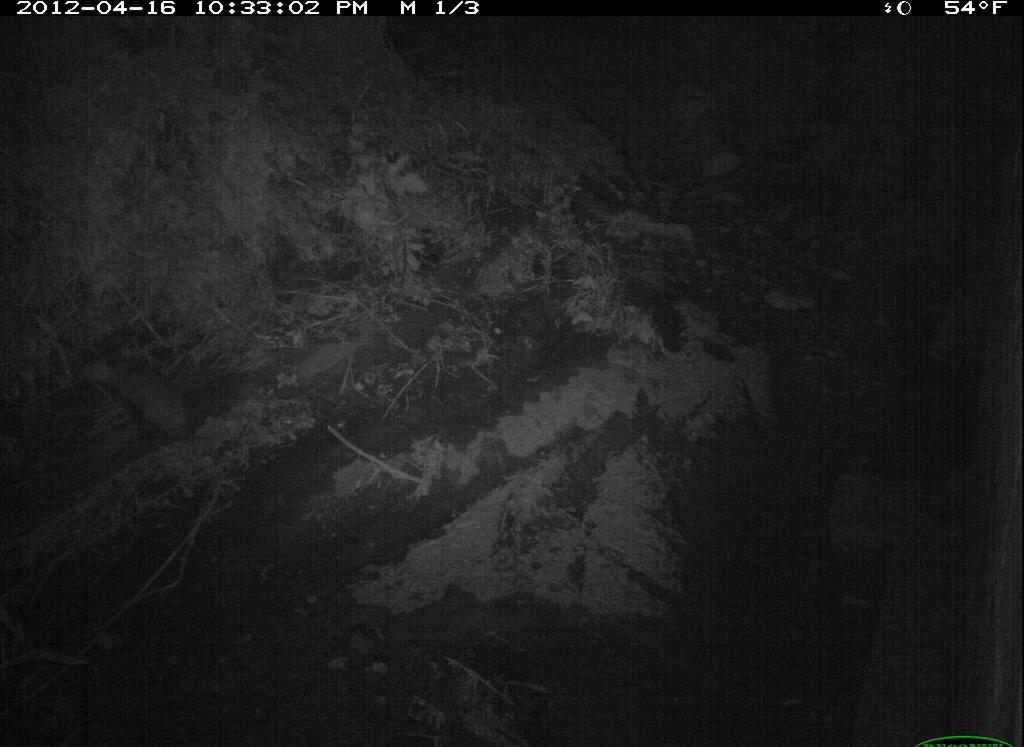opossum: (95, 349, 207, 453)
